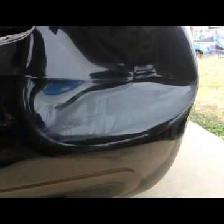bumper_dent: (20, 16, 201, 159)
